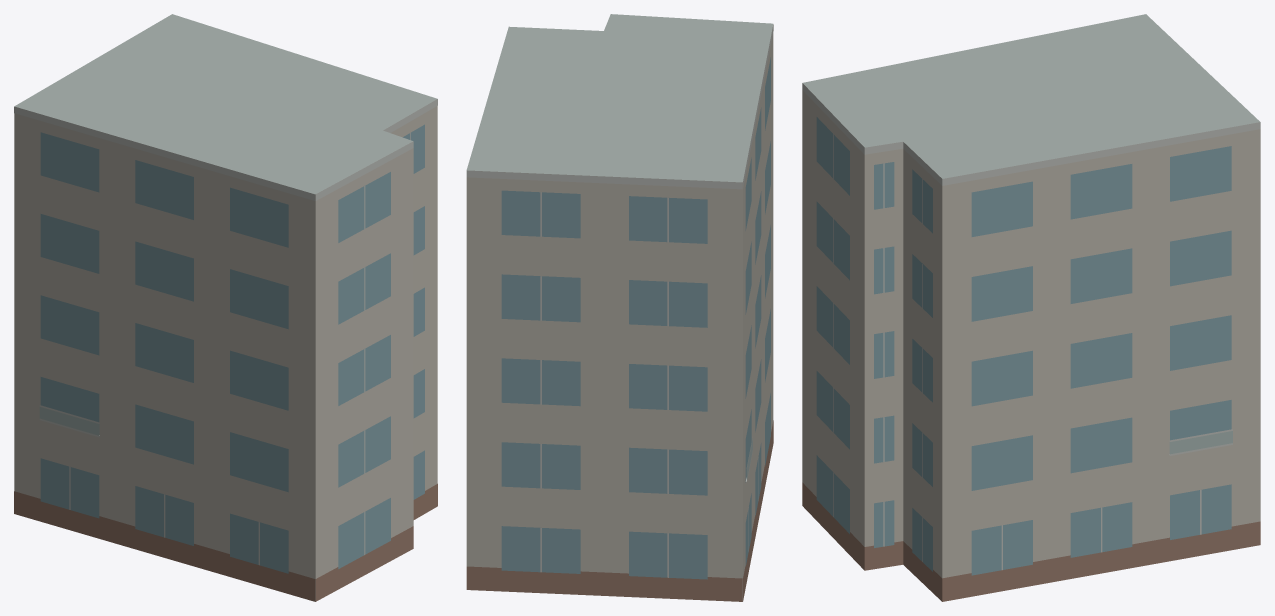
File: survey-upis-32858789.glb
3 views of the same model, side by side, from view 1: azimuth 30°, elevation 25°; view 2: azimuth 150°, elevation 25°; view 3: azimuth 270°, elevation 25° (orthographic). The views are drawn at different scales.
Visible parts, largest first — view 1: survey-upis-32858789.tmp; view 2: survey-upis-32858789.tmp; view 3: survey-upis-32858789.tmp.
Boxes of the visible parts, <box> form: survey-upis-32858789.tmp: <box>14,14,437,601</box>; survey-upis-32858789.tmp: <box>466,14,773,601</box>; survey-upis-32858789.tmp: <box>802,14,1260,601</box>.
Bounding box in the file's own units: 12.3 × 14.7 × 14.44.
